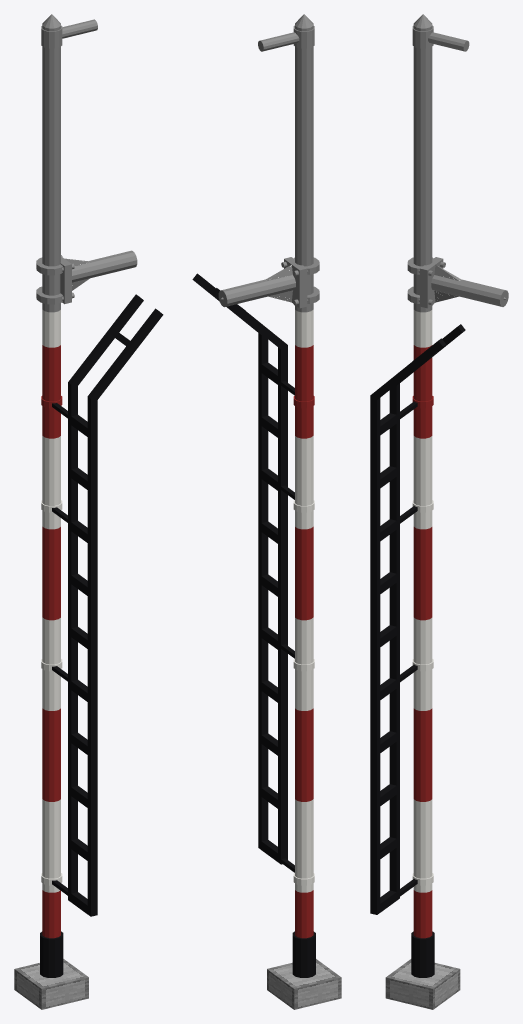
Rendered from left_signal_4chamber.obj.
3 views of the same model, side by side, from view 1: azimuth 30°, elevation 25°; view 2: azimuth 210°, elevation 25°; view 3: azimuth 330°, elevation 25° (orthographic).
Visible parts, largest first — view 1: main_pole, ladder_bottom, foundation, ladder_middle_connector, adapter, adapter_bolts, ladder_support, main_pole_side_top; view 2: main_pole, ladder_bottom, foundation, adapter, ladder_middle_connector, ladder_support, main_pole_side_top, adapter_bolts; view 3: main_pole, ladder_bottom, foundation, adapter, ladder_middle_connector, ladder_support, main_pole_side_top, adapter_bolts.
Part boxes in pixels (left/top/right/bottom): main_pole: left=40, top=14, right=63, bottom=977; ladder_bottom: left=68, top=382, right=97, bottom=916; foundation: left=14, top=959, right=88, bottom=1009; ladder_middle_connector: left=68, top=294, right=163, bottom=399; adapter: left=60, top=250, right=137, bottom=304; adapter_bolts: left=36, top=255, right=74, bottom=304; ladder_support: left=52, top=403, right=67, bottom=895; main_pole_side_top: left=62, top=19, right=97, bottom=38; main_pole: left=292, top=14, right=315, bottom=977; ladder_bottom: left=258, top=333, right=287, bottom=864; foundation: left=267, top=959, right=341, bottom=1009; adapter: left=218, top=257, right=307, bottom=308; ladder_middle_connector: left=192, top=273, right=287, bottom=350; ladder_support: left=268, top=380, right=294, bottom=872; main_pole_side_top: left=258, top=32, right=299, bottom=51; adapter_bolts: left=281, top=257, right=319, bottom=305; main_pole: left=411, top=14, right=434, bottom=977; ladder_bottom: left=370, top=383, right=399, bottom=914; foundation: left=385, top=959, right=460, bottom=1009; adapter: left=420, top=257, right=508, bottom=308; ladder_middle_connector: left=370, top=324, right=465, bottom=401; ladder_support: left=386, top=401, right=417, bottom=897; main_pole_side_top: left=428, top=32, right=469, bottom=51; adapter_bolts: left=407, top=257, right=445, bottom=305.
Size of the model in its own units: 0.6649 by 5.79 by 0.6384.
Materials: 1 (1 with a texture image).
